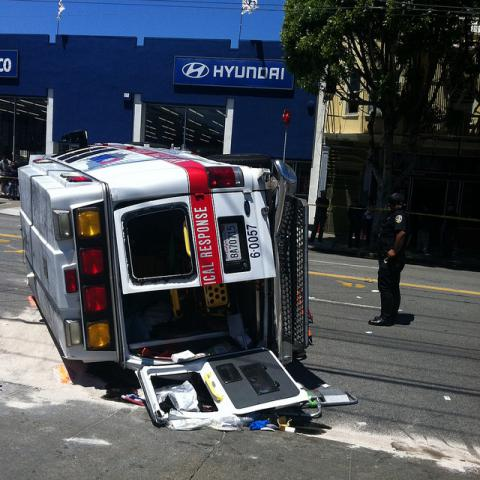truck: (18, 111, 310, 425)
